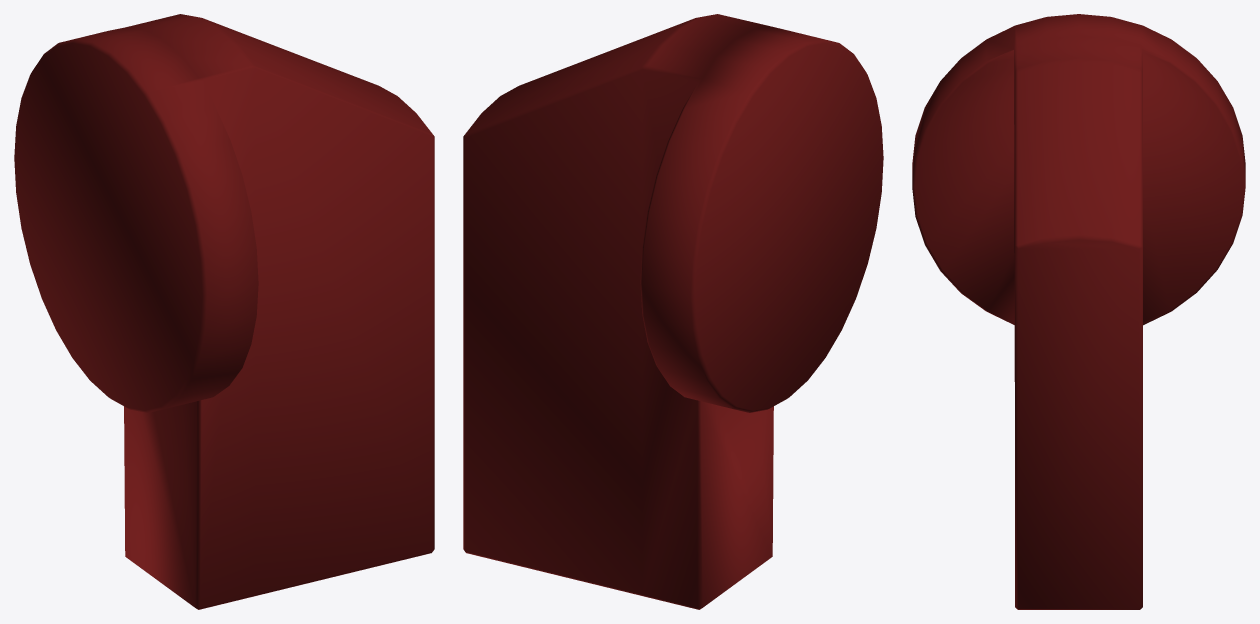
Rendered from SwitchRed.fbx.
The picture shows the model from 3 angles, left to right: view 1: azimuth 30°, elevation 25°; view 2: azimuth 150°, elevation 25°; view 3: azimuth 270°, elevation 25°; orthographic projection. The views are drawn at different scales.
Visible parts, largest first — view 1: Switch2__LP; view 2: Switch2__LP; view 3: Switch2__LP.
Boxes of the visible parts, left/top/right/bottom form: Switch2__LP: left=14, top=14, right=434, bottom=609; Switch2__LP: left=463, top=14, right=883, bottom=609; Switch2__LP: left=912, top=14, right=1245, bottom=609.
Bounding box in the file's own units: 4.13 × 4.69 × 7.36.
